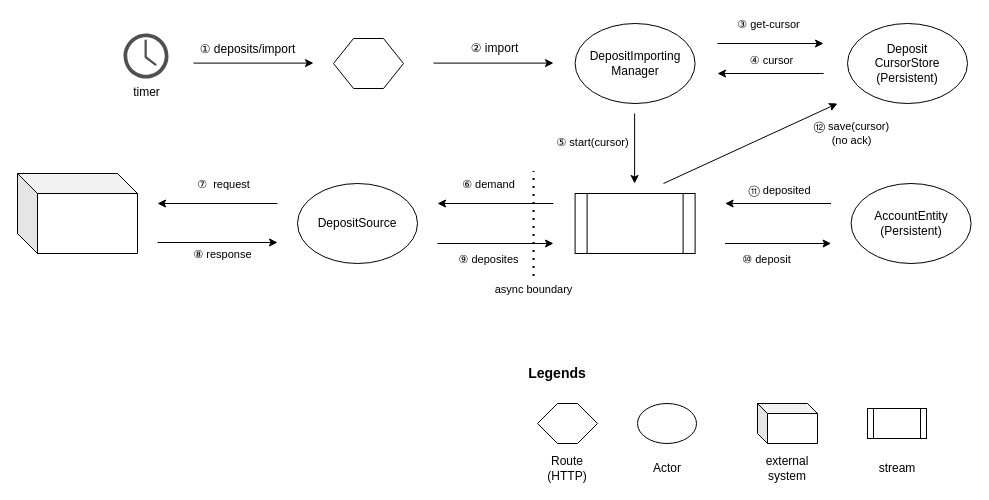
This 989x500 diagram has some shape labels left out. The shapes that lost their labels are listed below. From the top down, each one's box as (x1, y1, x2, y2) in pixels, then its label:
(332, 38, 404, 88): Deposit Route
(16, 172, 138, 254): Deposit PoolSystem
(574, 192, 695, 254): DepositImporting Stream
